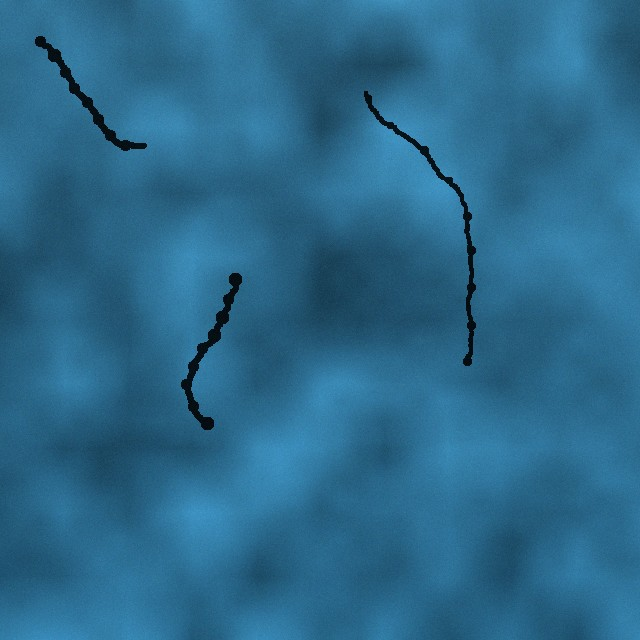crack: (362, 88, 476, 365), (34, 35, 150, 152), (180, 273, 241, 431)
